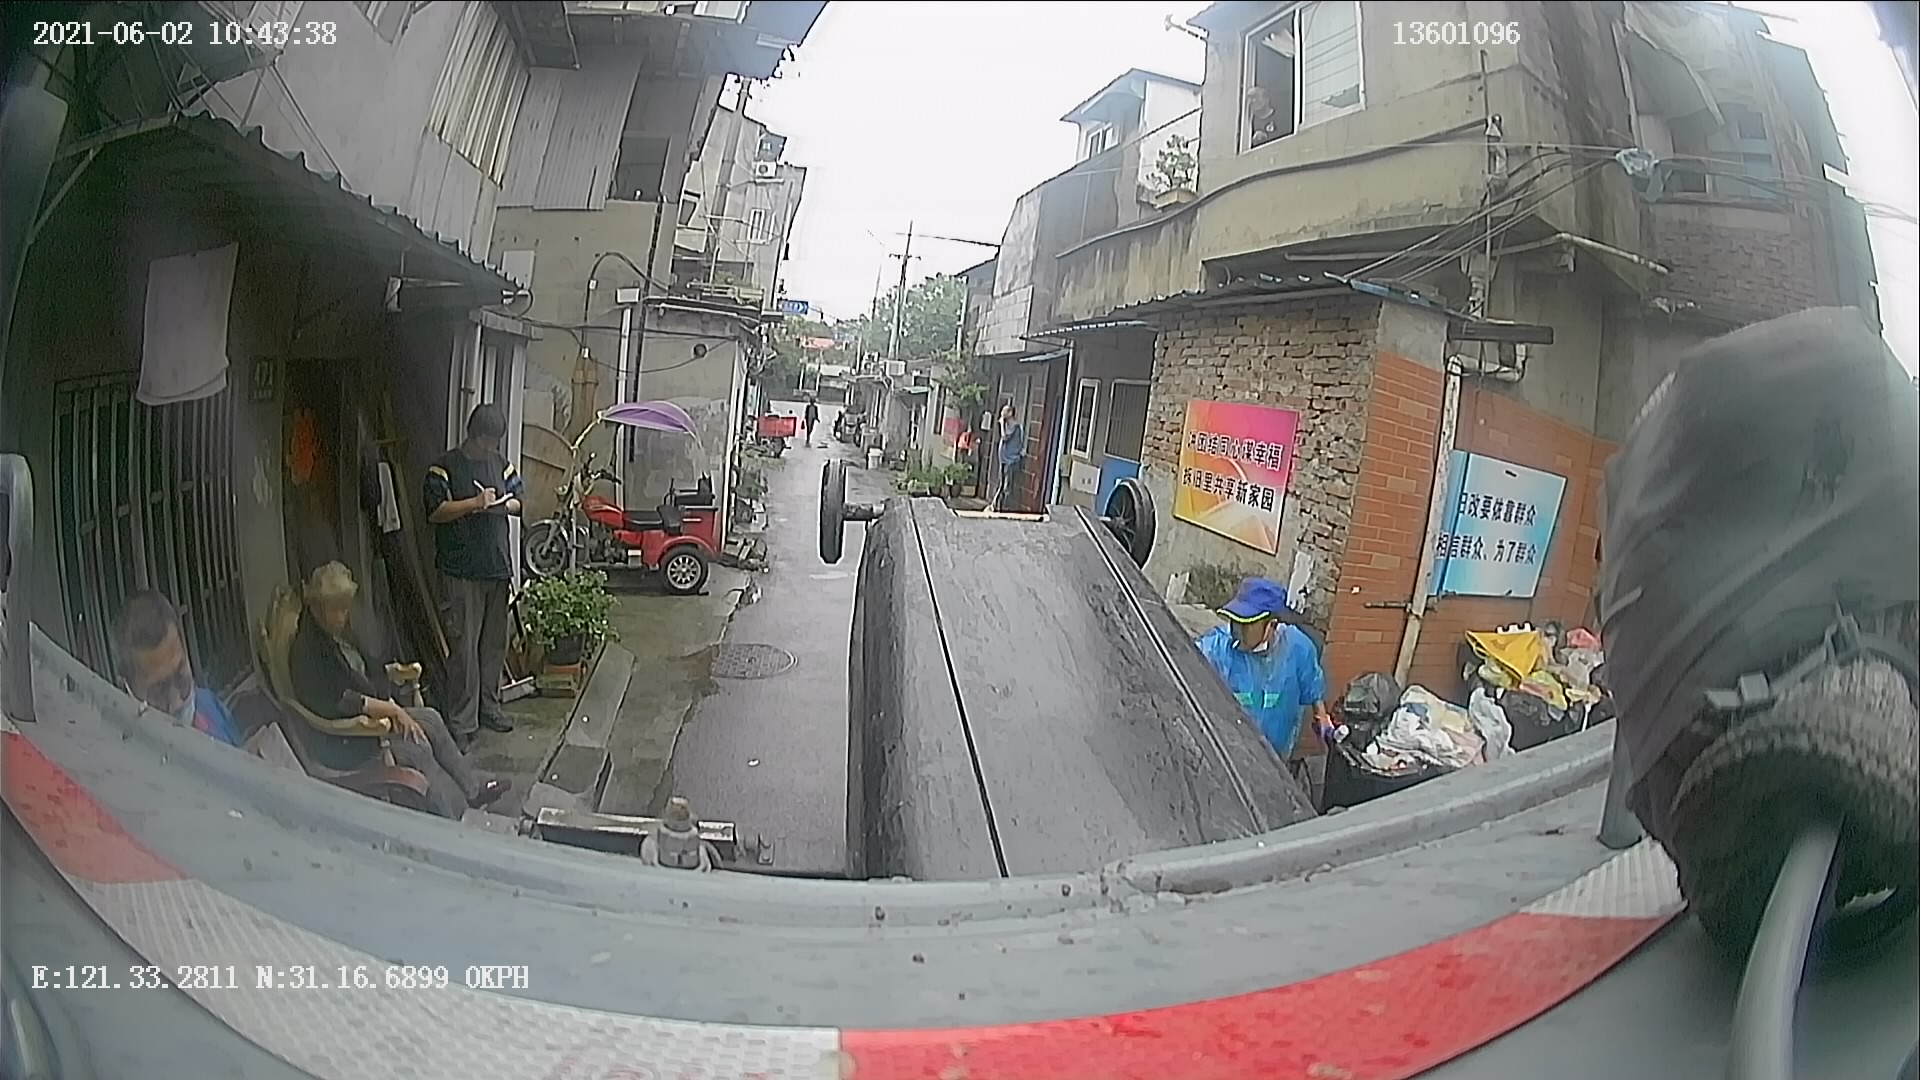Dry_garbage: (785, 448, 1275, 1006)
